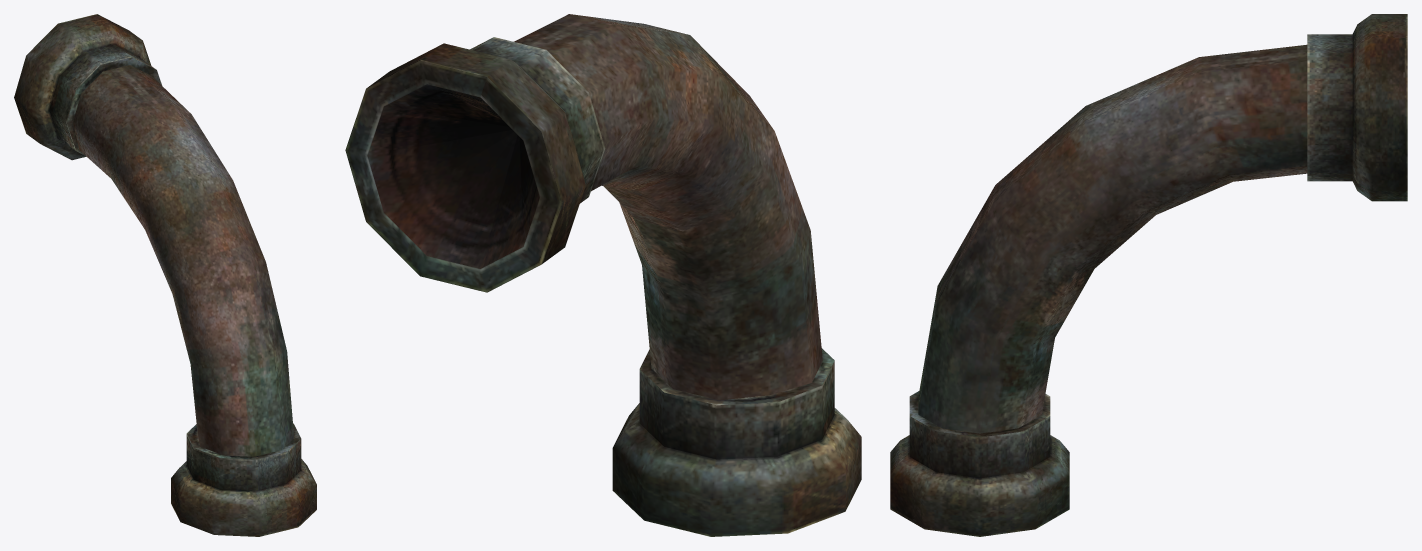
Rendered from pipe_medium_90_pplant.dae.
3 renders of one model, left to right at view 1: azimuth 30°, elevation 25°; view 2: azimuth 150°, elevation 25°; view 3: azimuth 270°, elevation 25°, orthographic. The views are drawn at different scales.
Visible parts, largest first — view 1: pipe_medium_90_pplant; view 2: pipe_medium_90_pplant; view 3: pipe_medium_90_pplant.
Boxes of the visible parts, bbox=[...] form: pipe_medium_90_pplant: bbox=[14, 14, 316, 536]; pipe_medium_90_pplant: bbox=[345, 14, 861, 536]; pipe_medium_90_pplant: bbox=[890, 14, 1407, 536].
Size of the model in its own units: 0.2637 by 0.7253 by 0.7227.
